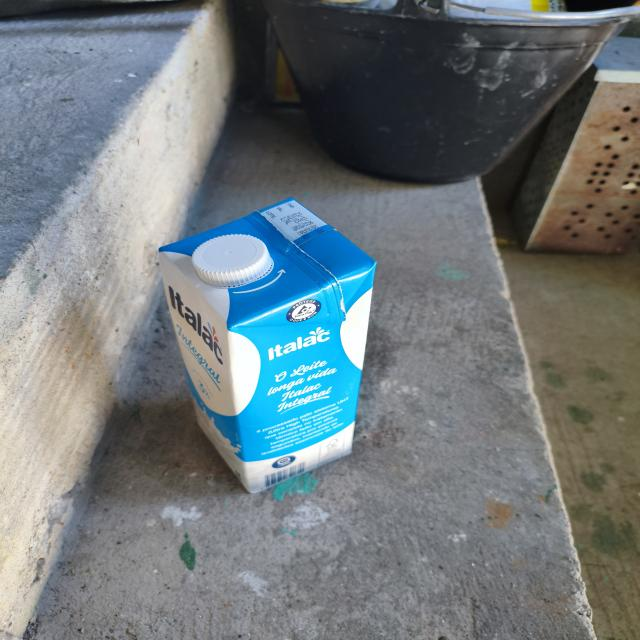Caixa de Leite: (134, 202, 391, 495)
